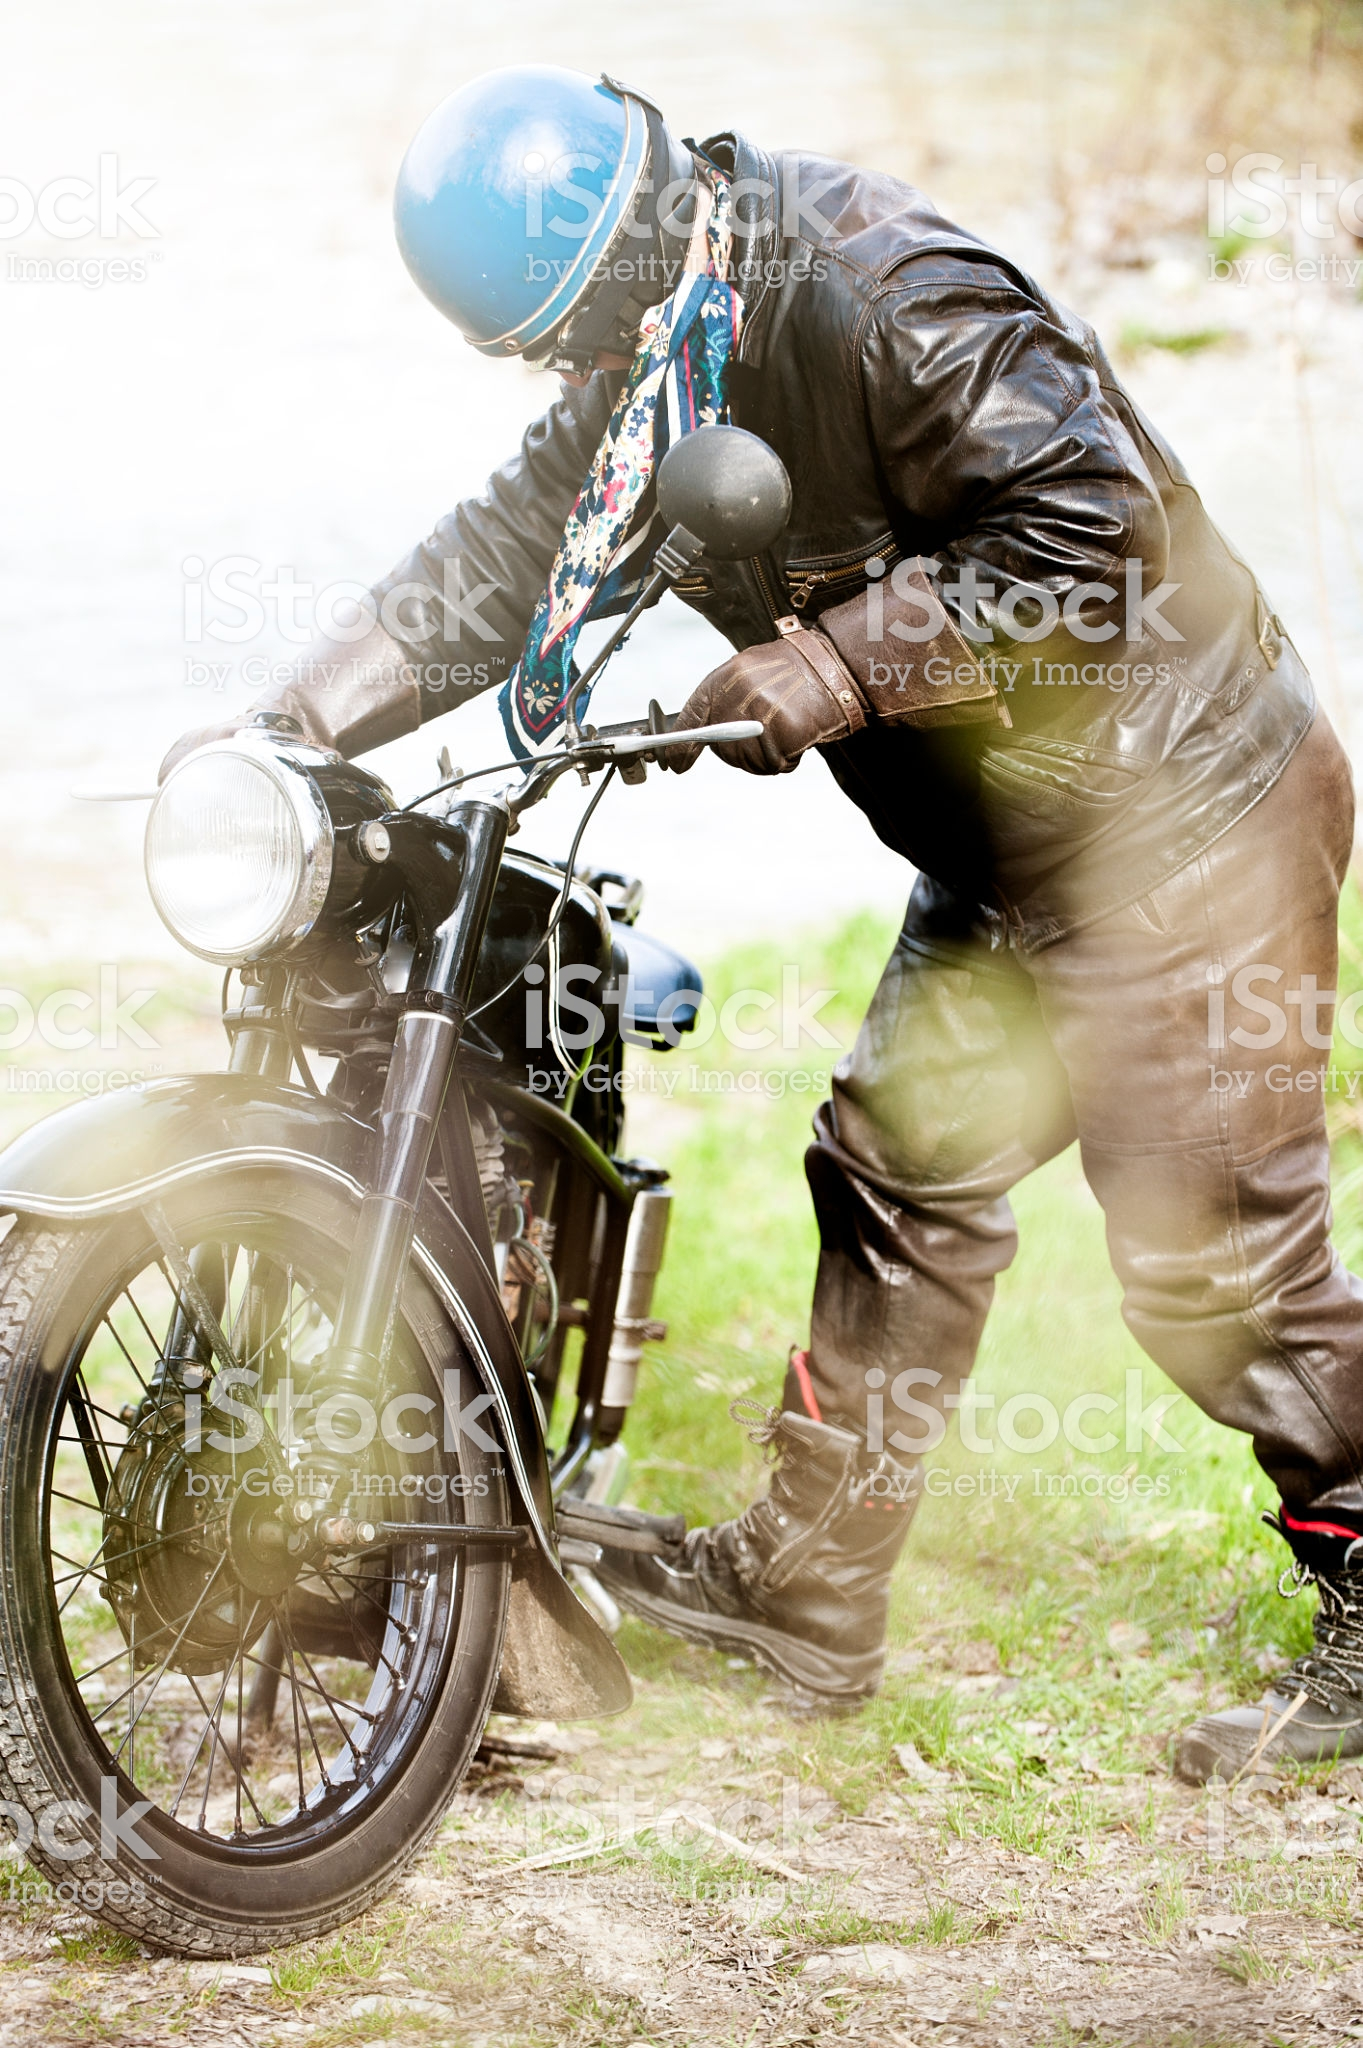helmet: (383, 62, 640, 366)
